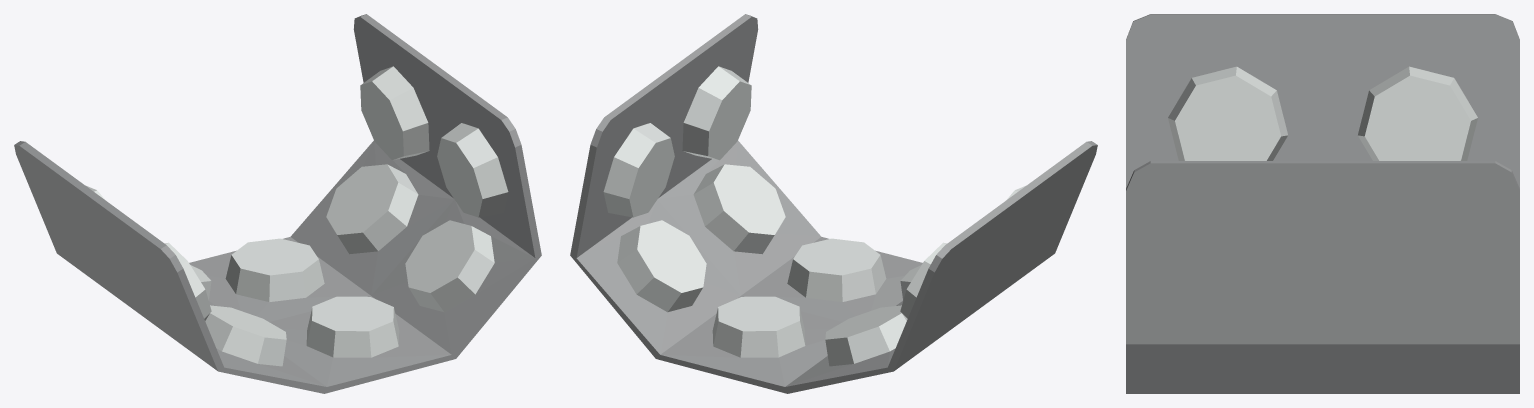
File: PillBlister3.fbx
3 views of the same model, side by side, from view 1: azimuth 30°, elevation 25°; view 2: azimuth 150°, elevation 25°; view 3: azimuth 270°, elevation 25° (orthographic). The views are drawn at different scales.
Parts seen in each view (by area): view 1: Cube; view 2: Cube; view 3: Cube.
Part boxes in pixels (x1,y1,x2,y2): Cube: (14, 14, 541, 393); Cube: (570, 14, 1097, 393); Cube: (1126, 14, 1519, 393).
Bounding box in the file's own units: 267 × 153 × 201.
